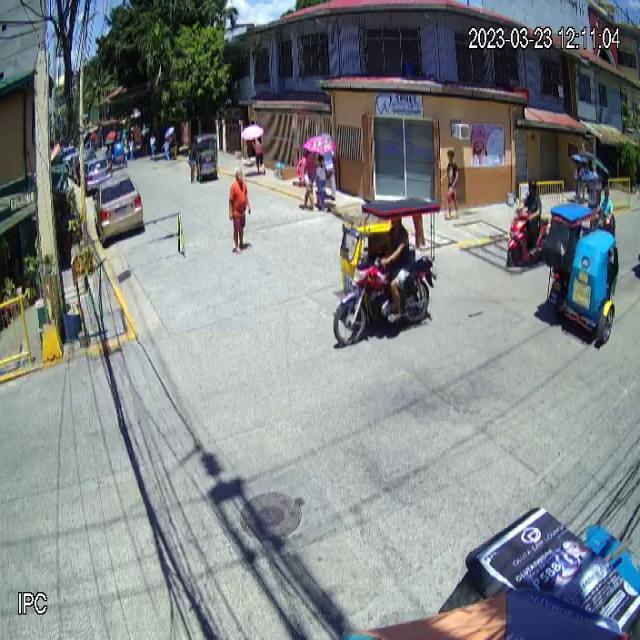Tricycle: (332, 196, 440, 346), (540, 201, 620, 345)
